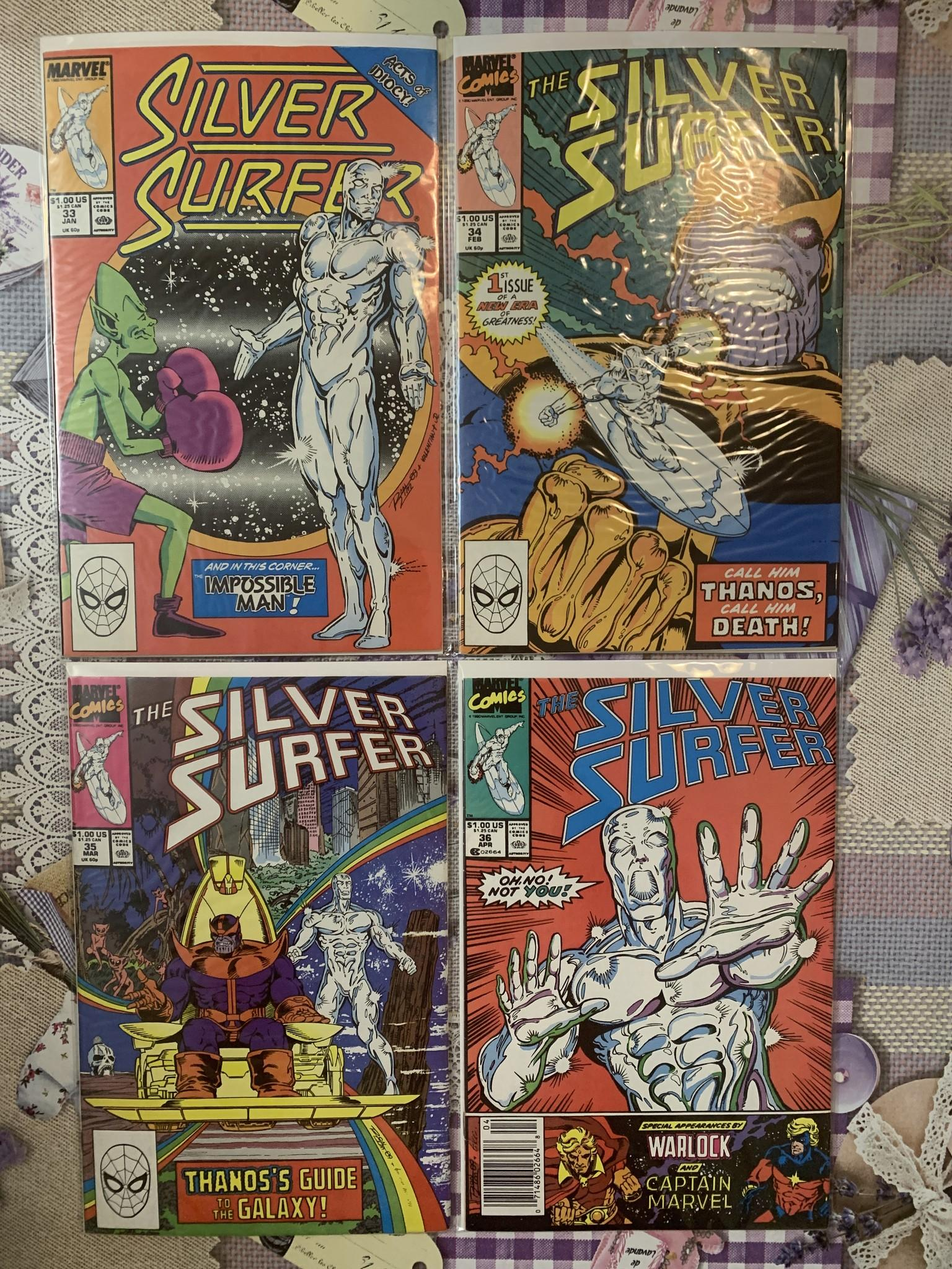comic: (43, 28, 449, 661), (455, 35, 846, 654), (68, 662, 449, 1236), (461, 658, 835, 1229)
